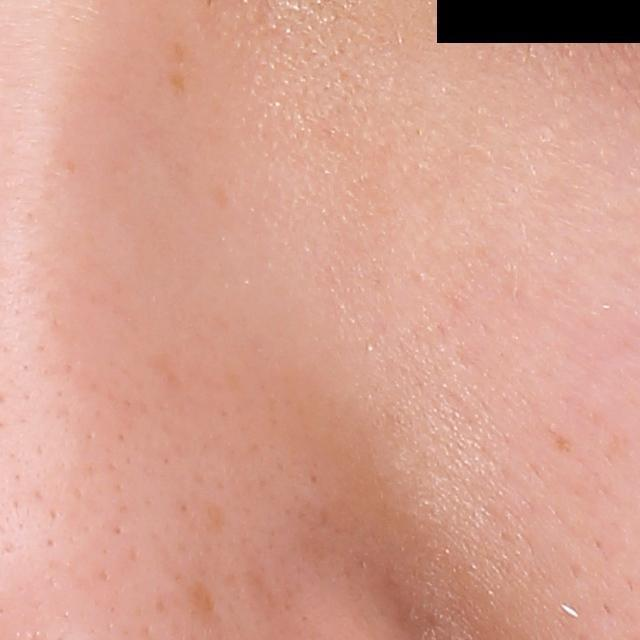melasma: (245, 546, 291, 624), (188, 575, 221, 625), (548, 428, 577, 457), (165, 69, 189, 97), (171, 40, 188, 63)
